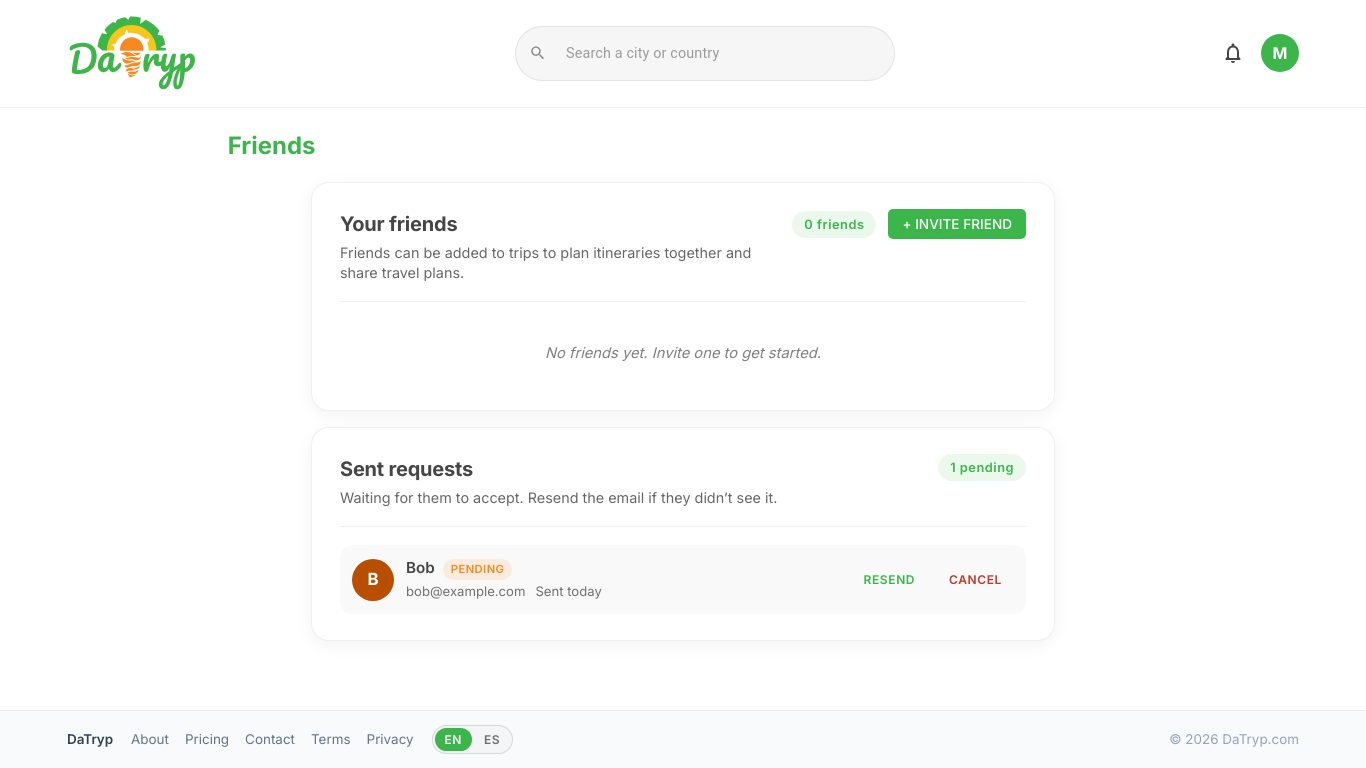
Friends › surfaces the resend error message
Click the button "Resend". click: click(889, 580)
box: [852,565,927,595]
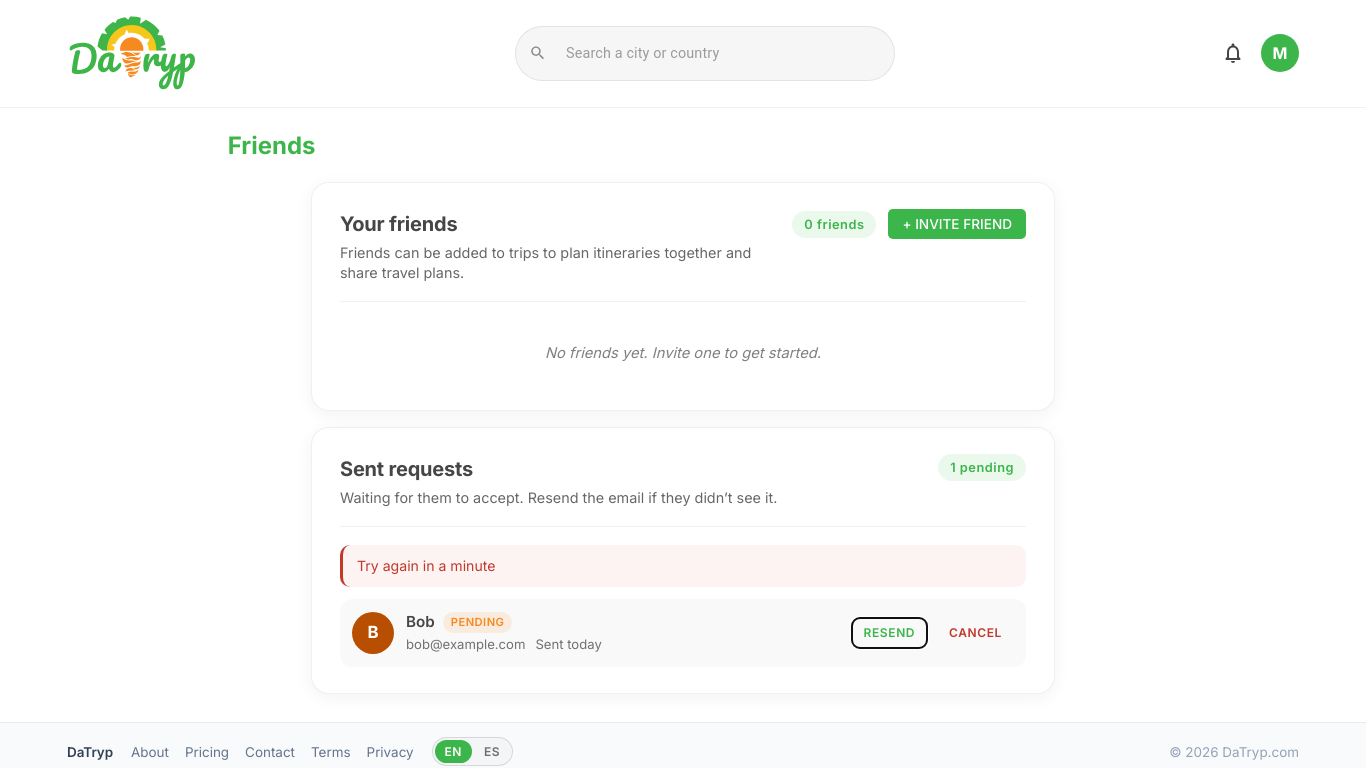
Result: the message reads "Try again in a minute" at [357,558,495,574]
